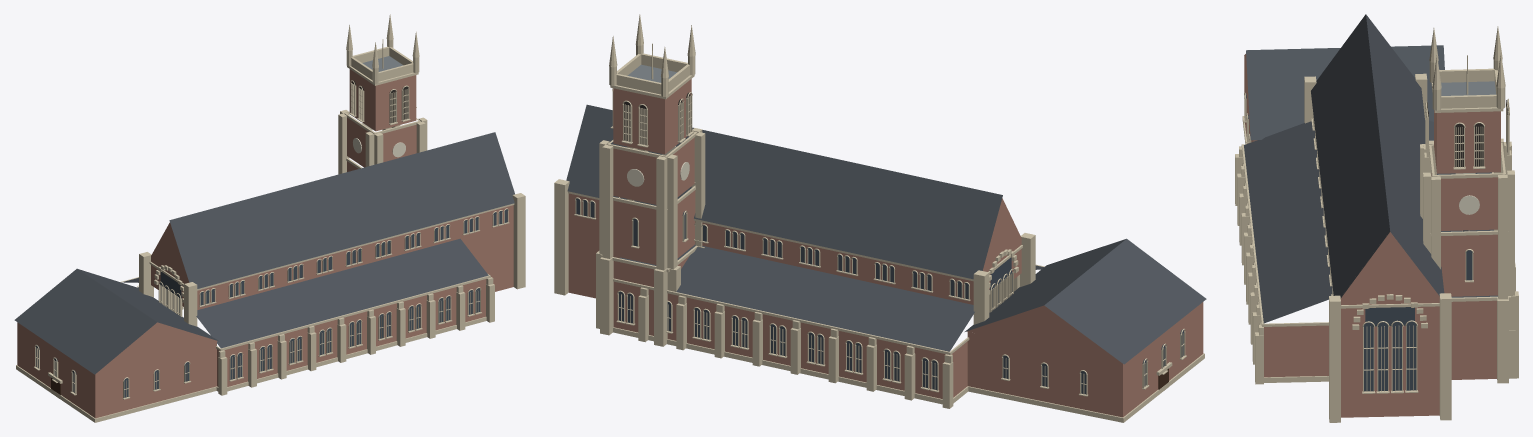
File: st_pauls_hammersmith.glb
3 renders of one model, left to right at view 1: azimuth 30°, elevation 25°; view 2: azimuth 150°, elevation 25°; view 3: azimuth 270°, elevation 25°, orthographic. The views are drawn at different scales.
Bounding box in the file's own units: 75.52 × 37.38 × 29.71.
